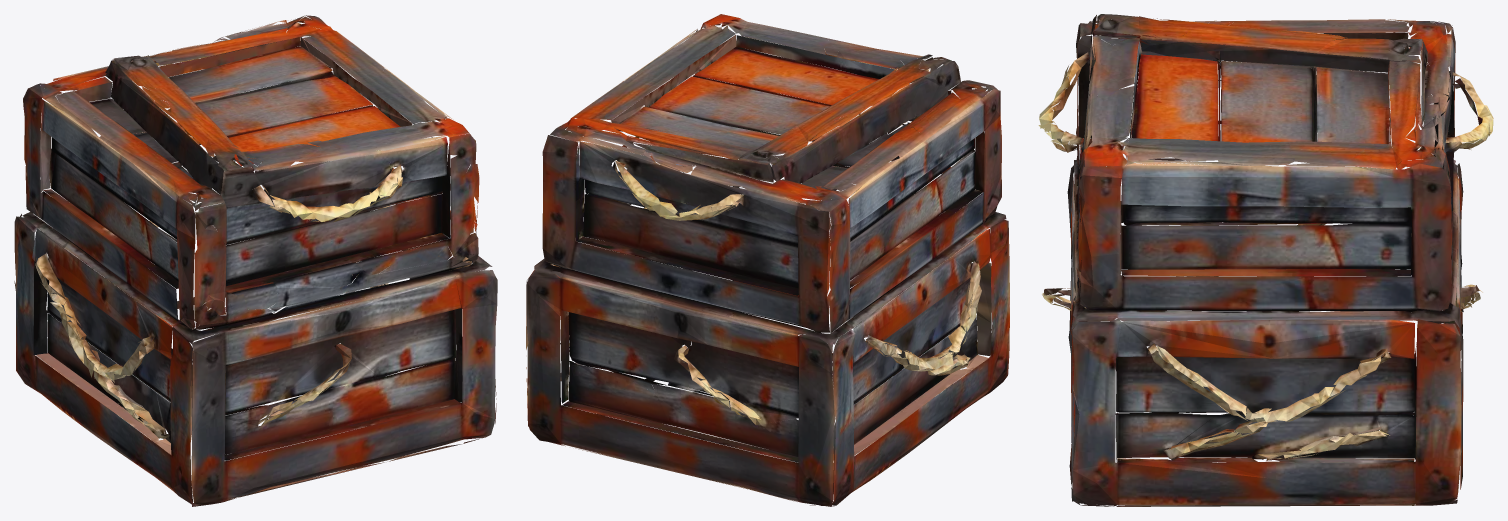
File: crates-stack.glb
3 views of the same model, side by side, from view 1: azimuth 30°, elevation 25°; view 2: azimuth 150°, elevation 25°; view 3: azimuth 270°, elevation 25° (orthographic). The views are drawn at different scales.
Parts seen in each view (by area): view 1: prop; view 2: prop; view 3: prop.
Part boxes in pixels (left/top/right/bottom): prop: left=14, top=15, right=497, bottom=506; prop: left=526, top=14, right=1009, bottom=506; prop: left=1038, top=14, right=1493, bottom=506.
Size of the model in its own units: 0.9119 by 0.808 by 0.92.
1 material, 1 textured.
